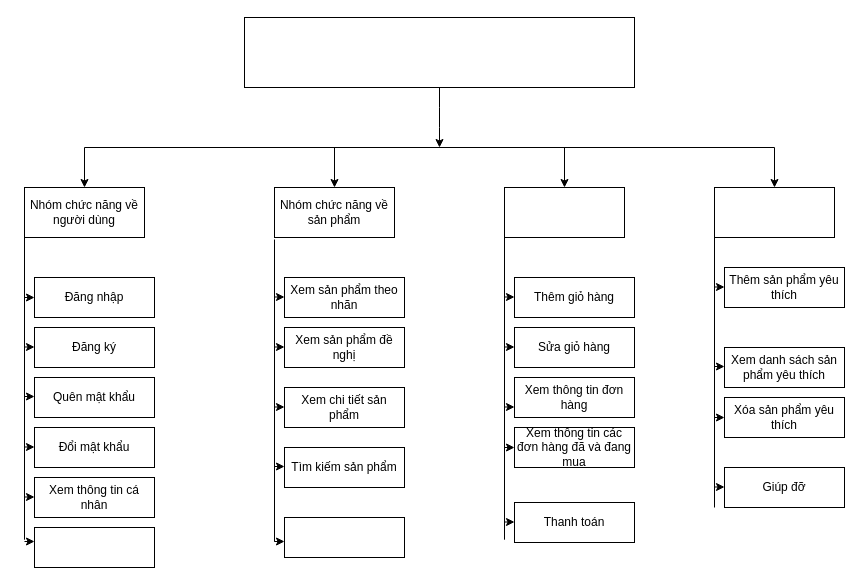
The diagram is 862 pixels wide and 585 high, and some of its shapes have lost their labels. The shapes that lost their labels are listed below. From the top down, each one's centre as x and y in pixels, then its label:
At point (439, 52): "App bán nông sản online".
At point (564, 212): "Nhóm chức năng về giỏ hàng".
At point (774, 212): "Nhóm chức năng về các sản phẩm yêu thích".
At point (94, 547): "Cập nhật thông tin cá nhân".
At point (344, 537): "CRUD đánh giá sản phẩm".
